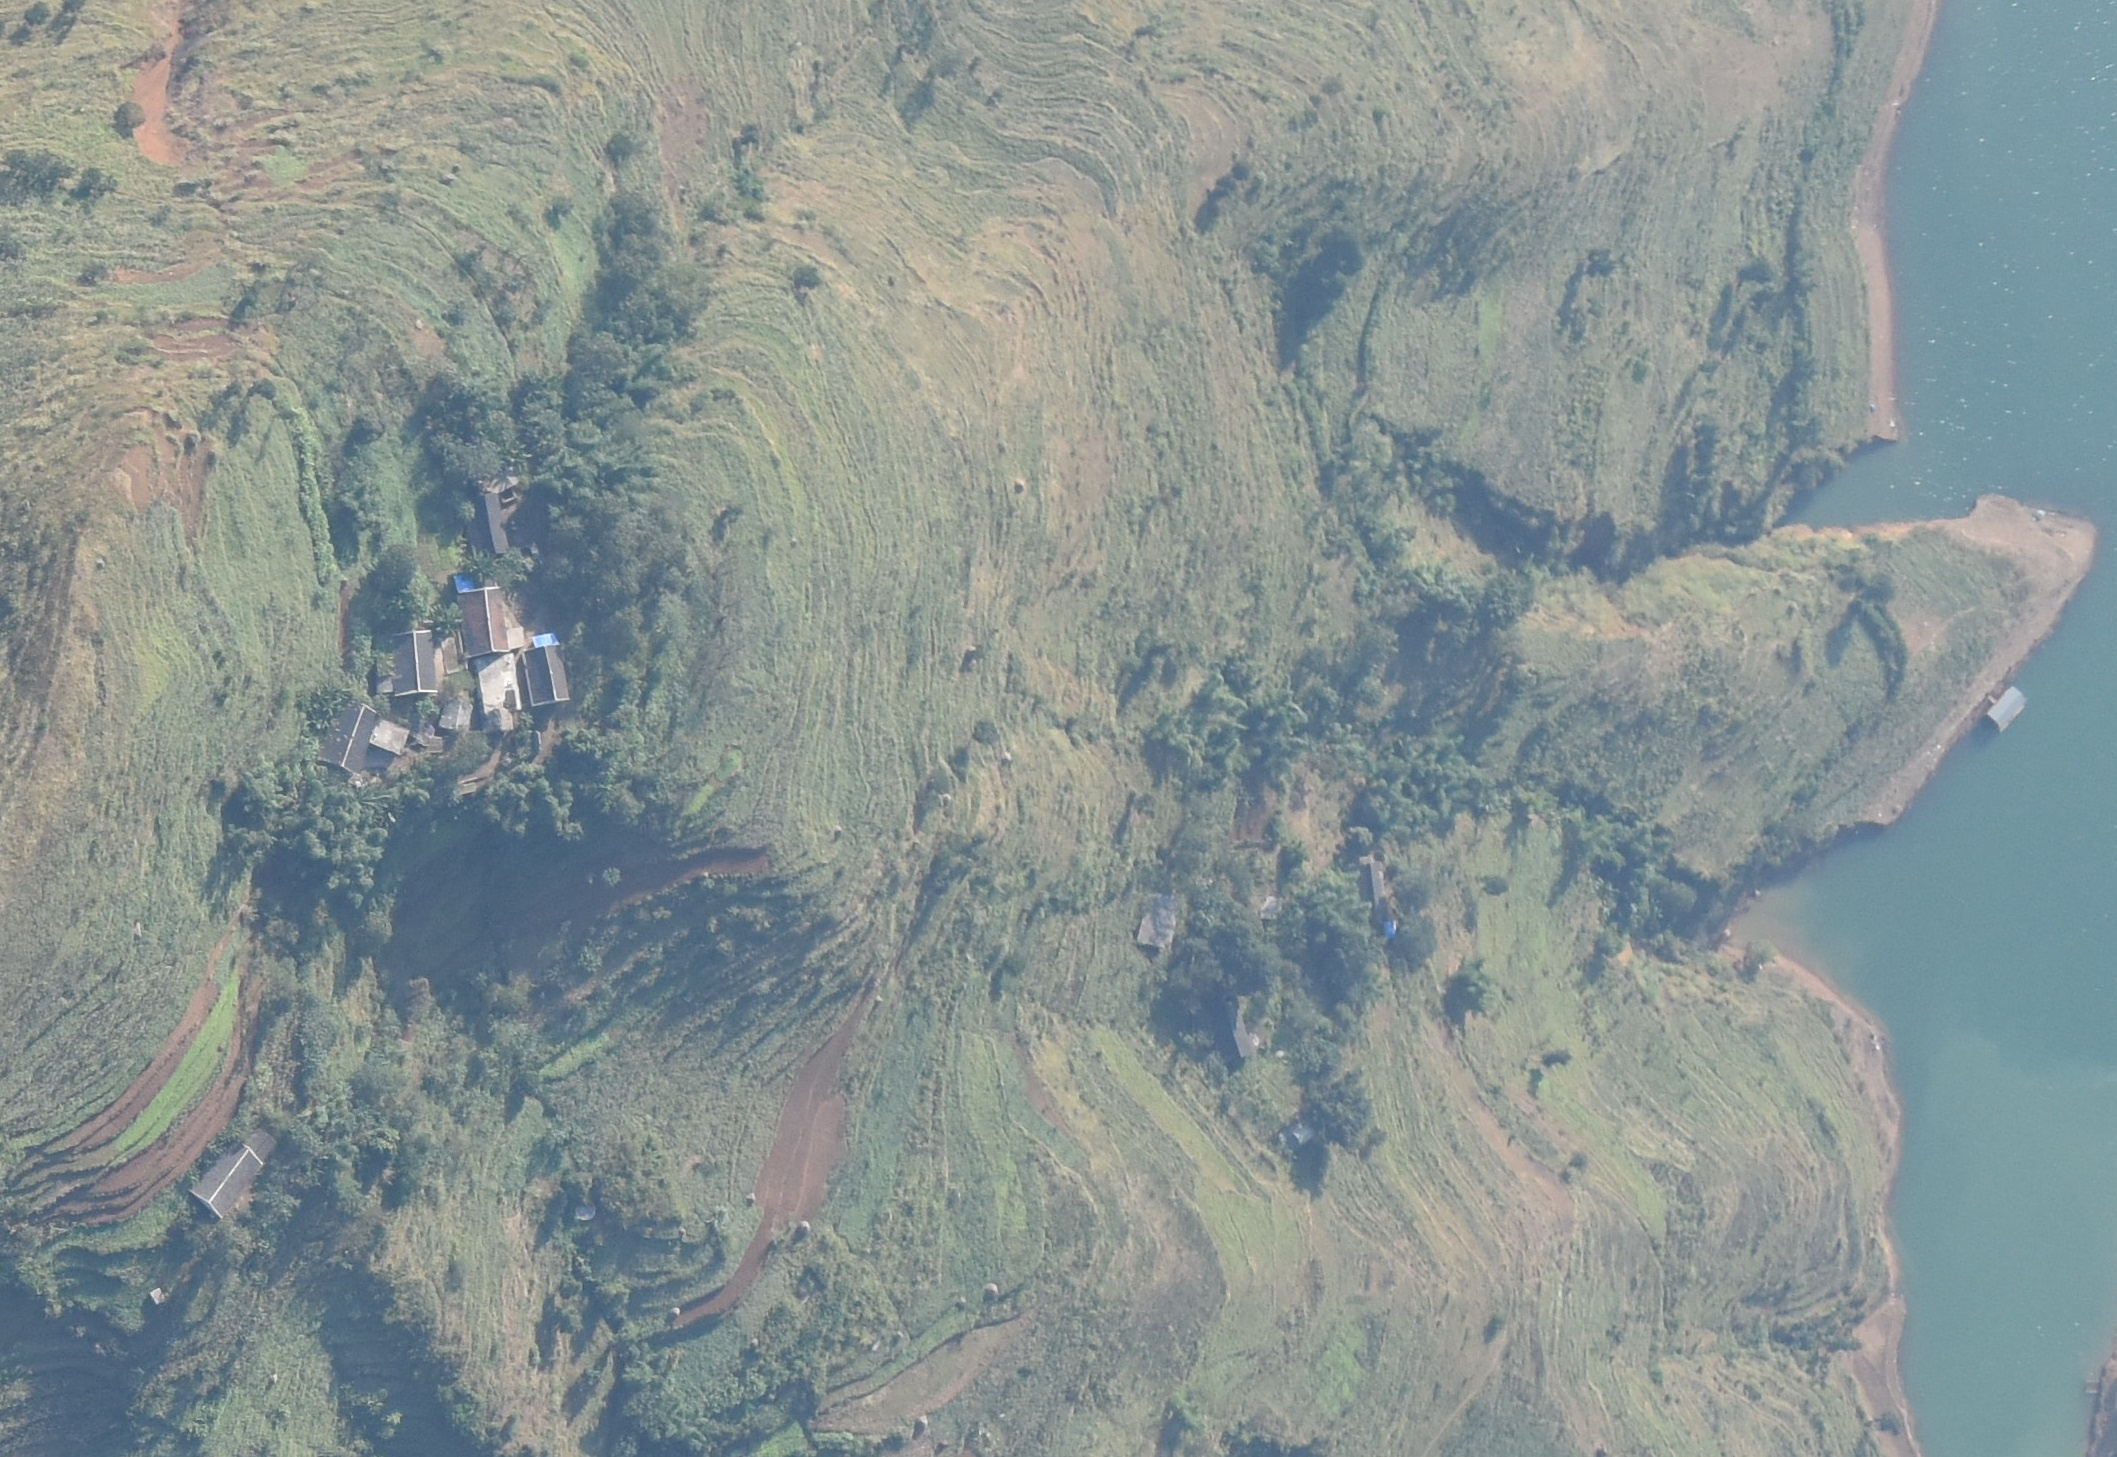building: (317, 702, 408, 779), (188, 1144, 262, 1220), (459, 587, 527, 655), (474, 651, 521, 735), (1360, 859, 1402, 936), (523, 636, 569, 706), (389, 630, 436, 697), (474, 489, 509, 562), (1135, 891, 1179, 949), (1226, 994, 1262, 1057), (1278, 1115, 1312, 1151), (439, 701, 474, 731), (1260, 893, 1286, 919)
prefabricated-house: (1985, 687, 2032, 736), (454, 571, 477, 592), (529, 631, 556, 647)
